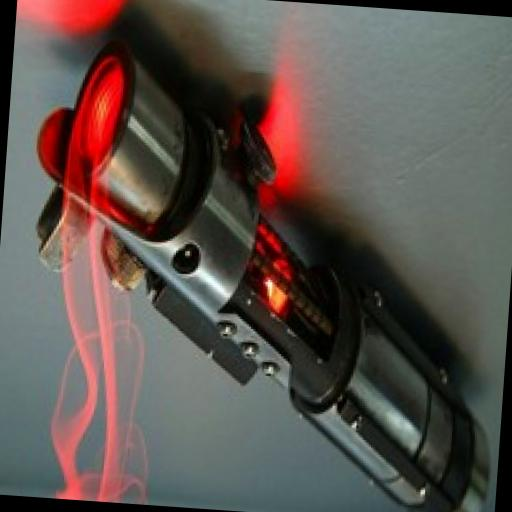sith saber: (7, 22, 512, 512)
